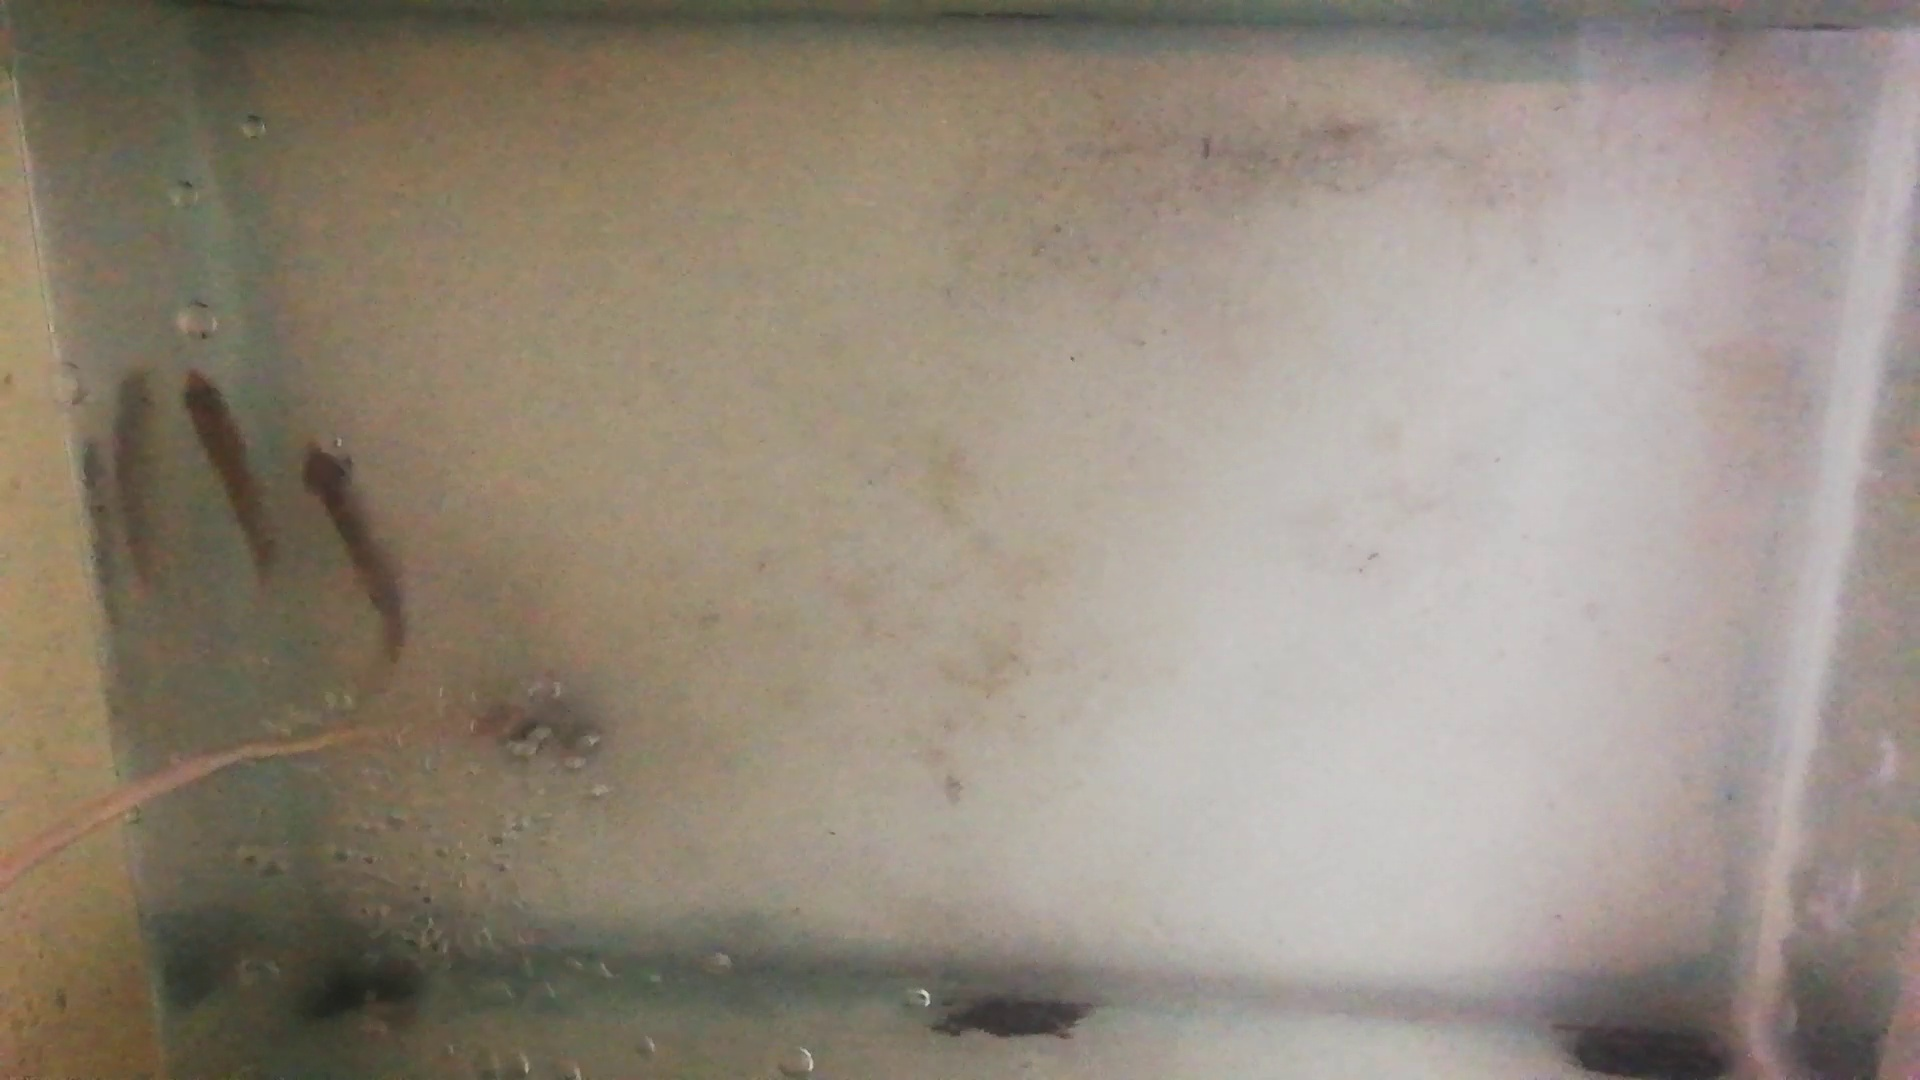fish: (301, 442, 407, 665), (186, 371, 272, 580)
